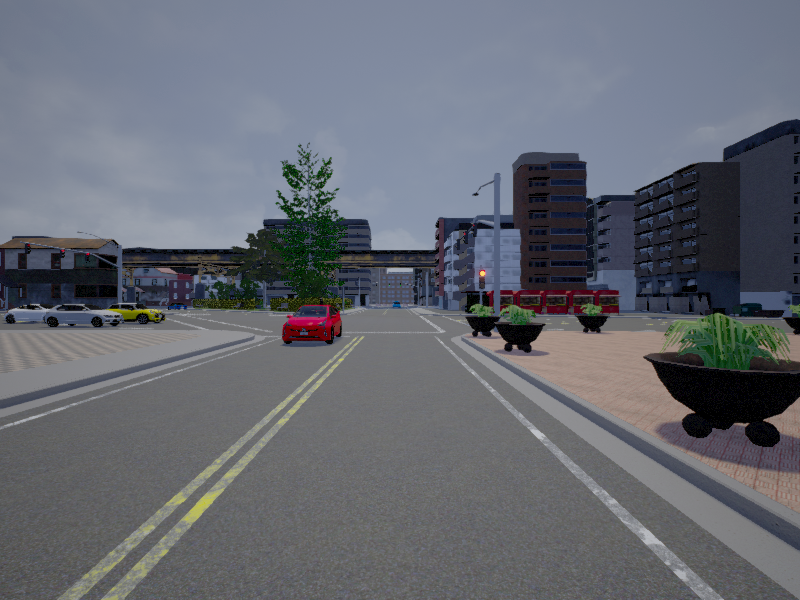Benign: (282, 305, 344, 342), (43, 303, 123, 329), (107, 303, 169, 322), (5, 303, 57, 325)
